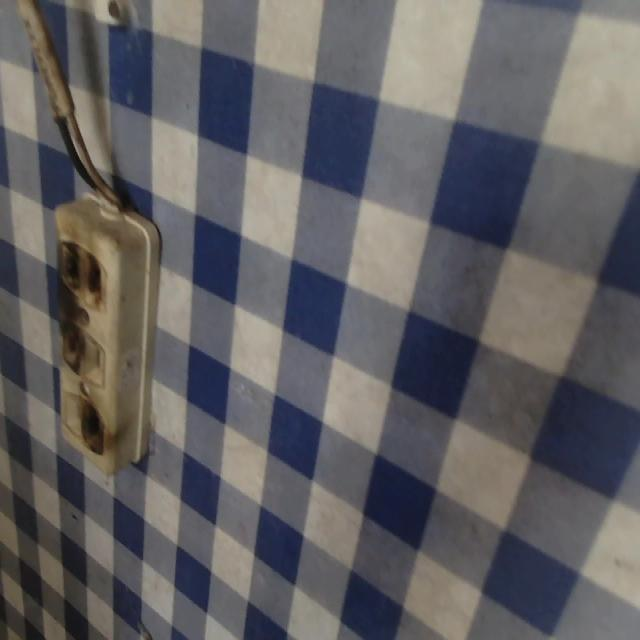-: (55, 238, 106, 306), (80, 397, 104, 456), (61, 317, 85, 373)
